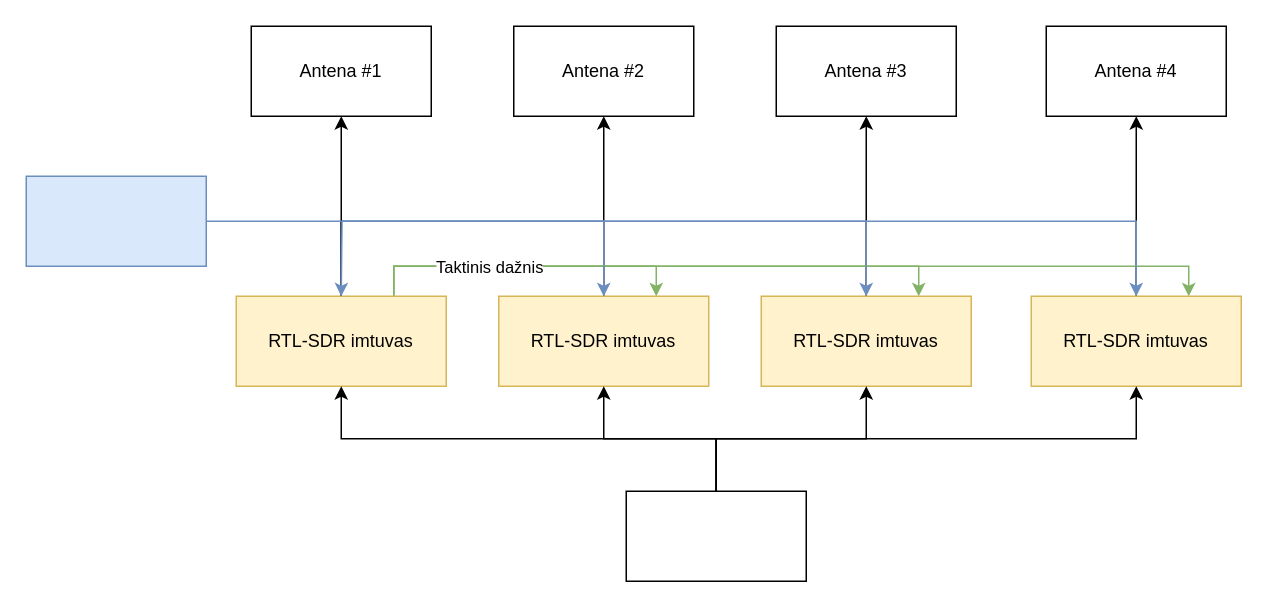
Image size: 1268x608. Some labels were removed from this diagram. The centre of each missing label's shape, as x and y in pixels:
"Triukšmų generatorius" goes at point (115, 220).
"USB dalytuvas" goes at point (715, 535).
